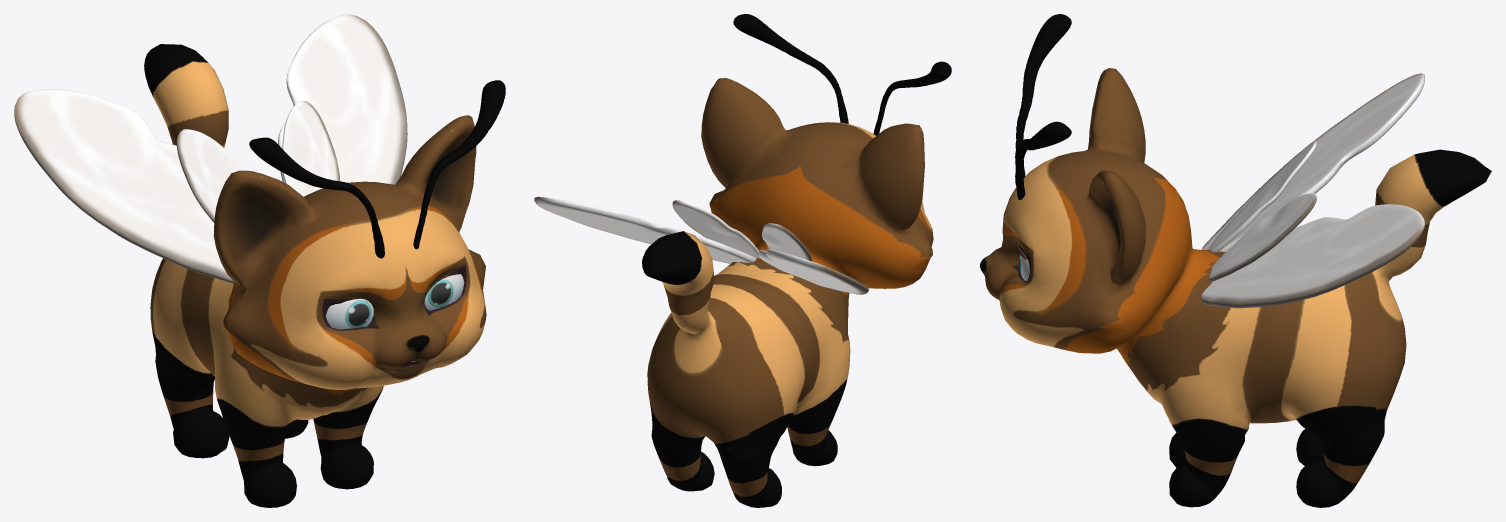
File: BEE CAT.fbx
3 renders of one model, left to right at view 1: azimuth 30°, elevation 25°; view 2: azimuth 150°, elevation 25°; view 3: azimuth 270°, elevation 25°, orthographic. The views are drawn at different scales.
Parts seen in each view (by area): view 1: cat, Object_7.003, Object_5; view 2: cat, Object_7.003, Object_5; view 3: cat, Object_7.003, Object_5.
Boxes of the visible parts, left/top/right/bottom form: cat: left=144, top=44, right=486, bottom=507; Object_7.003: left=14, top=14, right=407, bottom=283; Object_5: left=249, top=80, right=505, bottom=258; cat: left=642, top=78, right=933, bottom=507; Object_7.003: left=534, top=196, right=868, bottom=294; Object_5: left=733, top=14, right=951, bottom=135; cat: left=980, top=68, right=1491, bottom=507; Object_7.003: left=1201, top=73, right=1424, bottom=308; Object_5: left=1015, top=14, right=1071, bottom=200.
Size of the model in its own units: 59.67 by 67.78 by 76.21.
